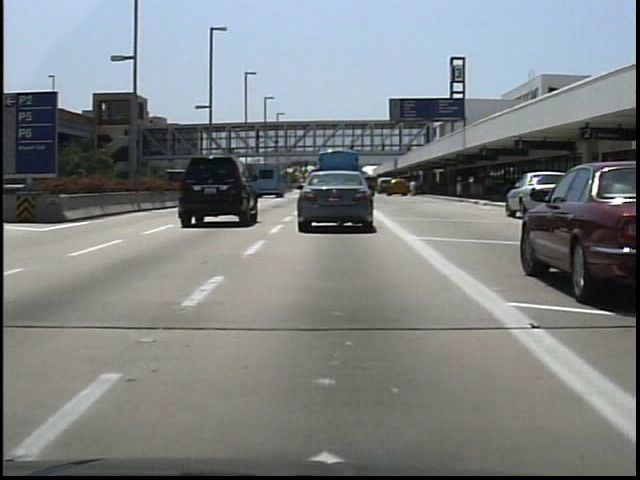person: (404, 176, 419, 202), (379, 136, 392, 158), (345, 136, 358, 156)
